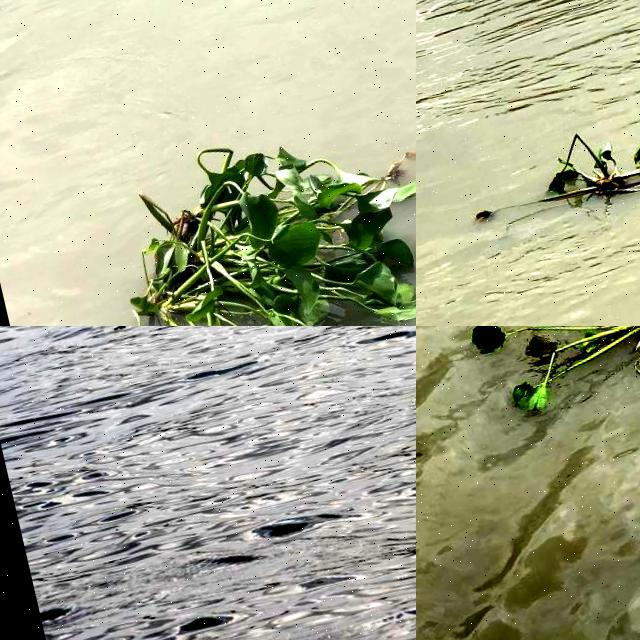water-hyacinth: (131, 142, 416, 324), (467, 124, 640, 236), (446, 327, 640, 424)
